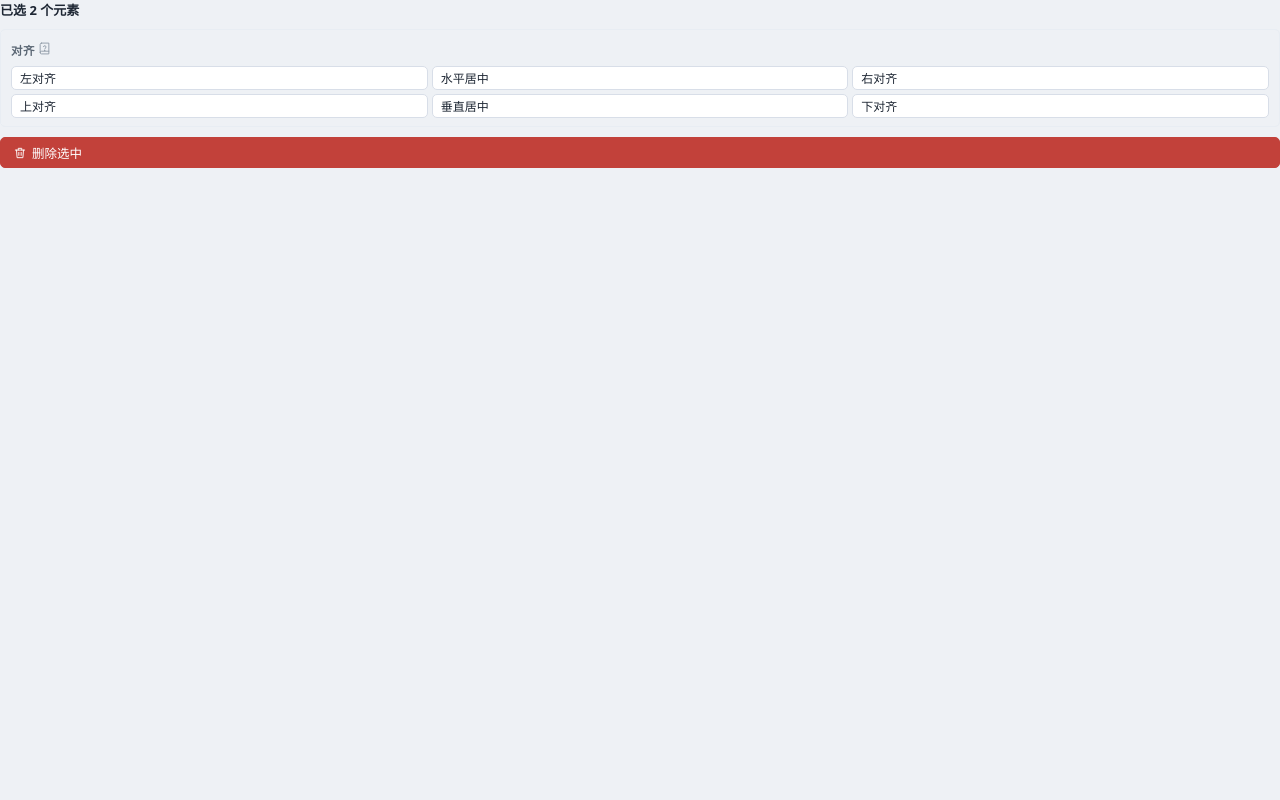
组件级「?」文档点（迭代 126 · #308 AC-03） › 多选：对齐组挂「?」；点「?」弹出就地文档气泡（词条与帮助文章同源）
Click the button named "查看说明": [45, 48] box [35, 38, 55, 58]
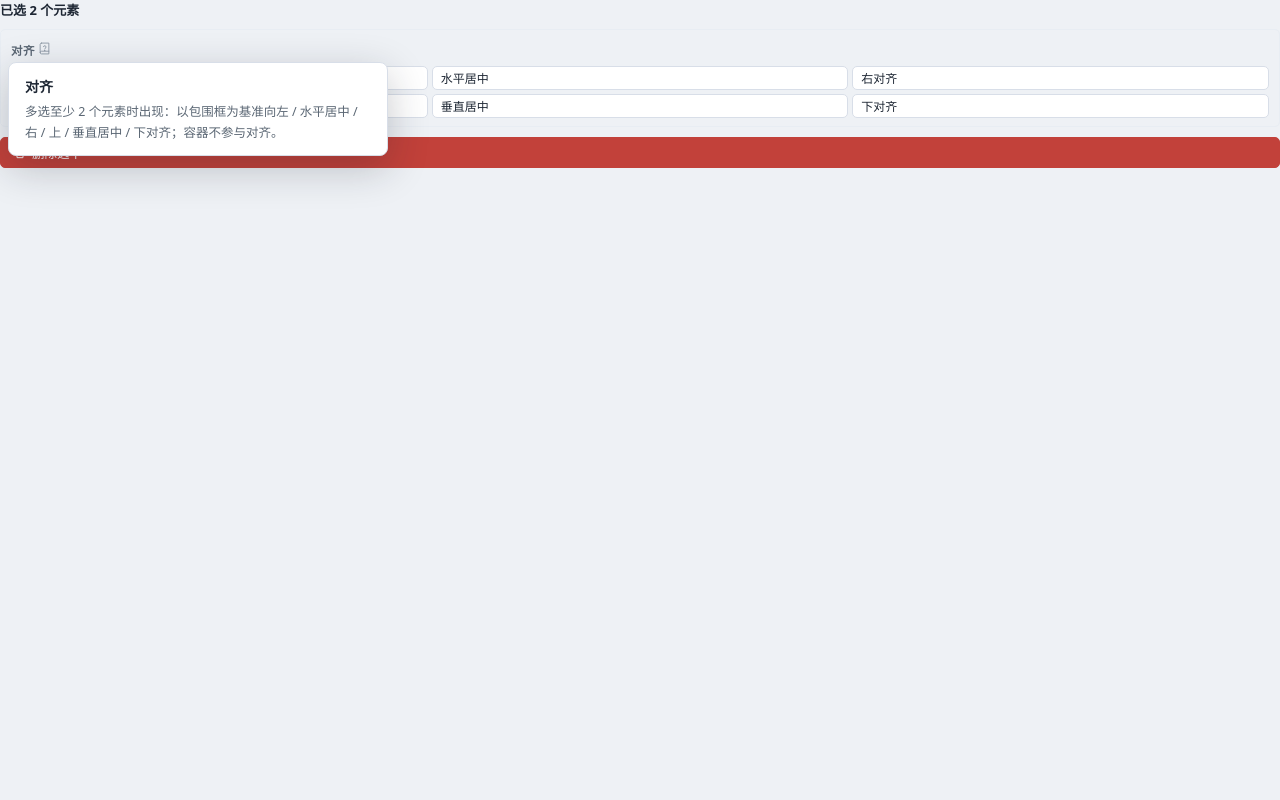
Expected: the dialog is shown, [8, 62, 388, 156]
Expected: the text "对齐" is shown, [25, 77, 53, 96]
Expected: the text "多选至少 2 个元素时出现：以包围框为基准向左 / 水平居中 / 右 / 上 / 垂直居中 / 下对齐；容器不参与对齐。" is shown, [25, 102, 371, 143]
// Esc 关闭（与 Popover 同法）
Press Escape
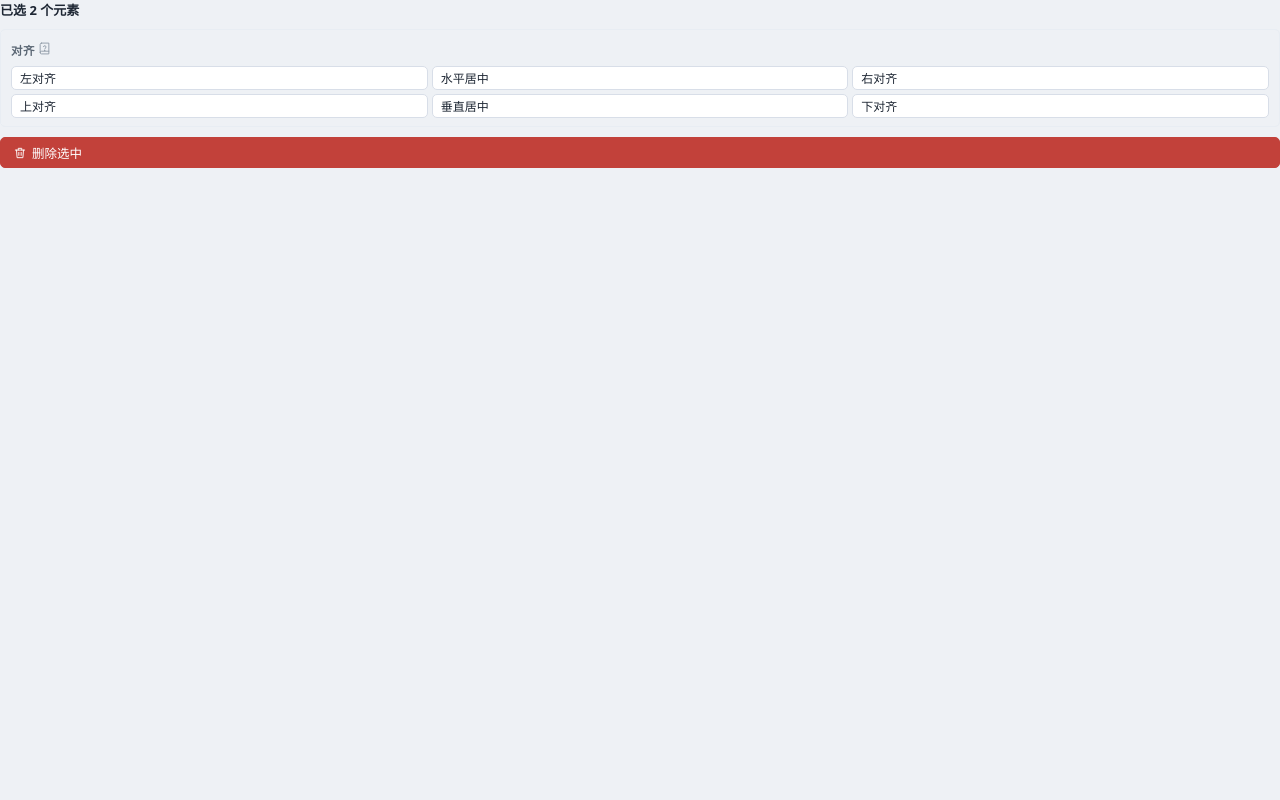
Expected: the dialog is gone
